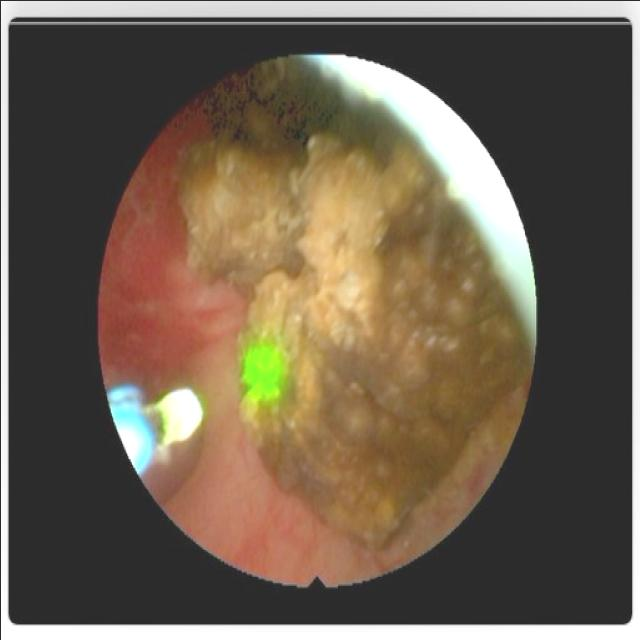fiber: (115, 408, 148, 468)
stone: (179, 136, 522, 539)
